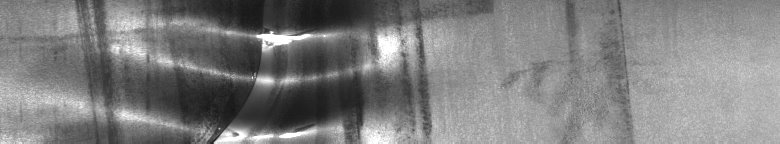ke: (89, 5, 432, 136)
